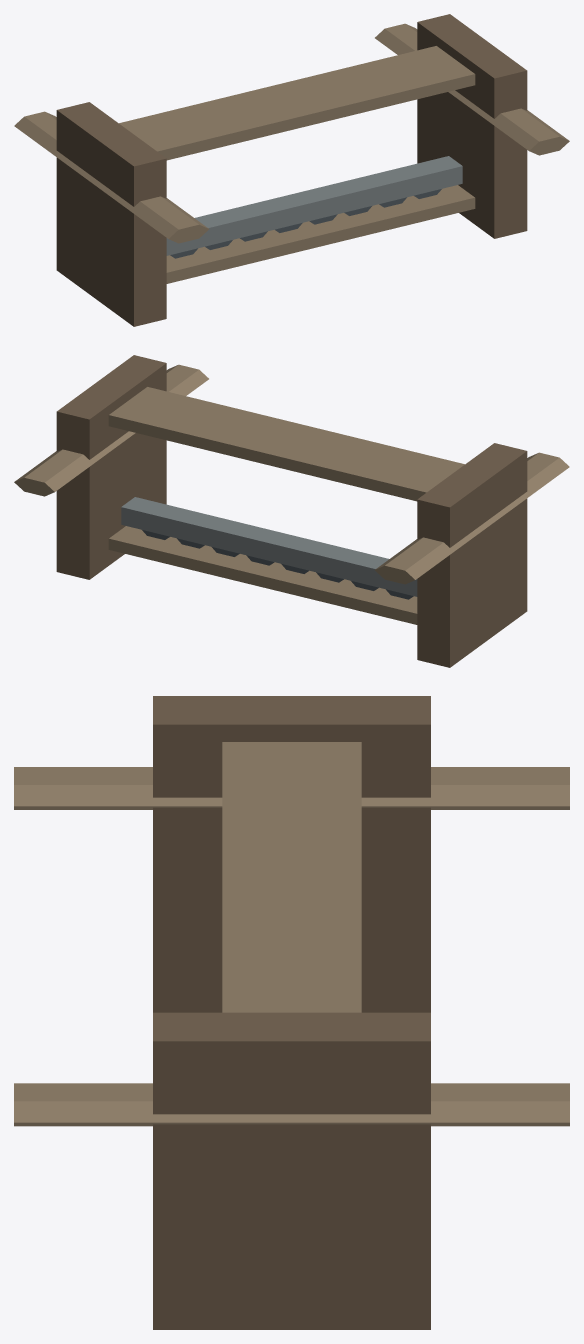
The model's file is ice_saw_frame.glb.
3 renders of one model, top to bottom at view 1: azimuth 30°, elevation 25°; view 2: azimuth 150°, elevation 25°; view 3: azimuth 270°, elevation 25°, orthographic. The views are drawn at different scales.
Parts seen in each view (by area): view 1: ice_saw_frame; view 2: ice_saw_frame; view 3: ice_saw_frame.
Boxes of the visible parts, x1,y1,x2,y2 form: ice_saw_frame: (14, 14, 569, 326); ice_saw_frame: (14, 355, 569, 667); ice_saw_frame: (14, 696, 569, 1329).
Bounding box in the file's own units: 2.88 × 1.1 × 1.92.
